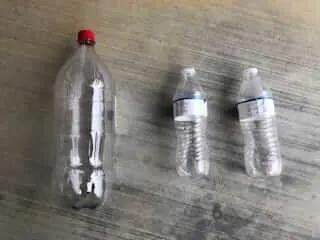bottle: (51, 20, 124, 220), (226, 58, 288, 186), (172, 66, 211, 179)
